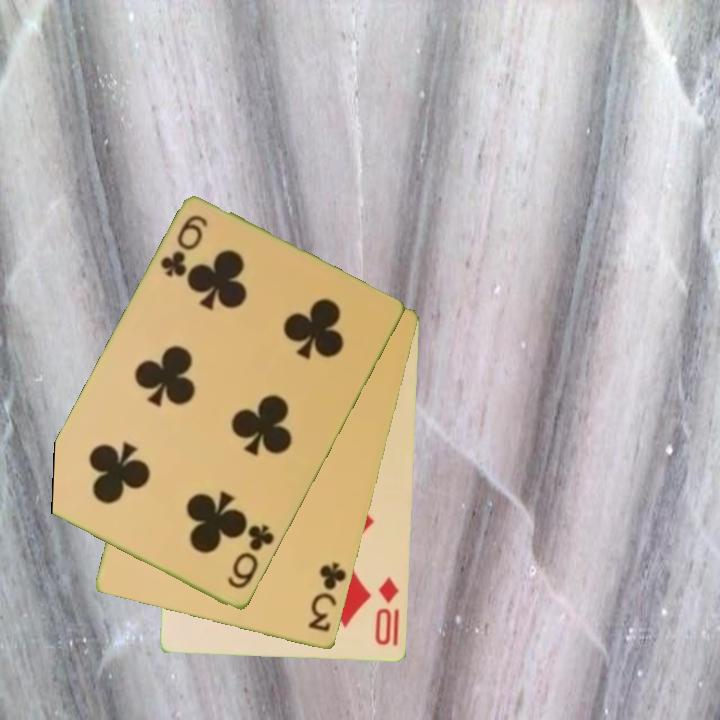10d: (372, 574, 402, 649)
3c: (305, 559, 350, 635)
6c: (224, 521, 278, 593), (156, 211, 211, 281)
